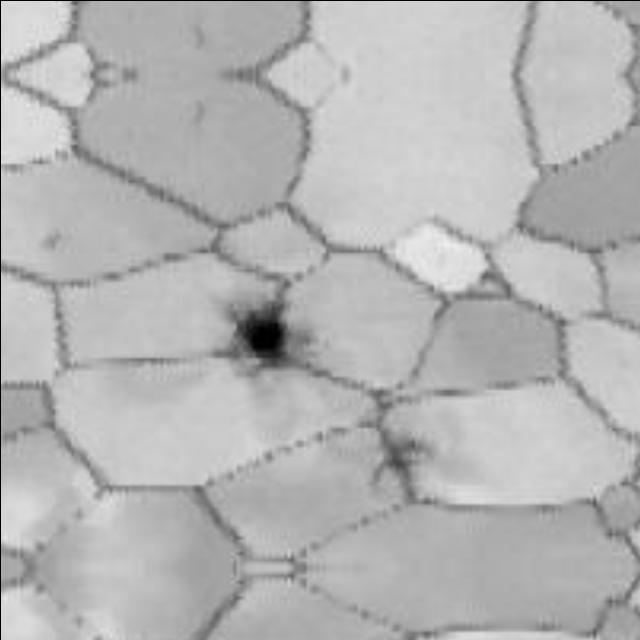good_void: (225, 296, 297, 373), (370, 434, 429, 481), (36, 228, 69, 249)
